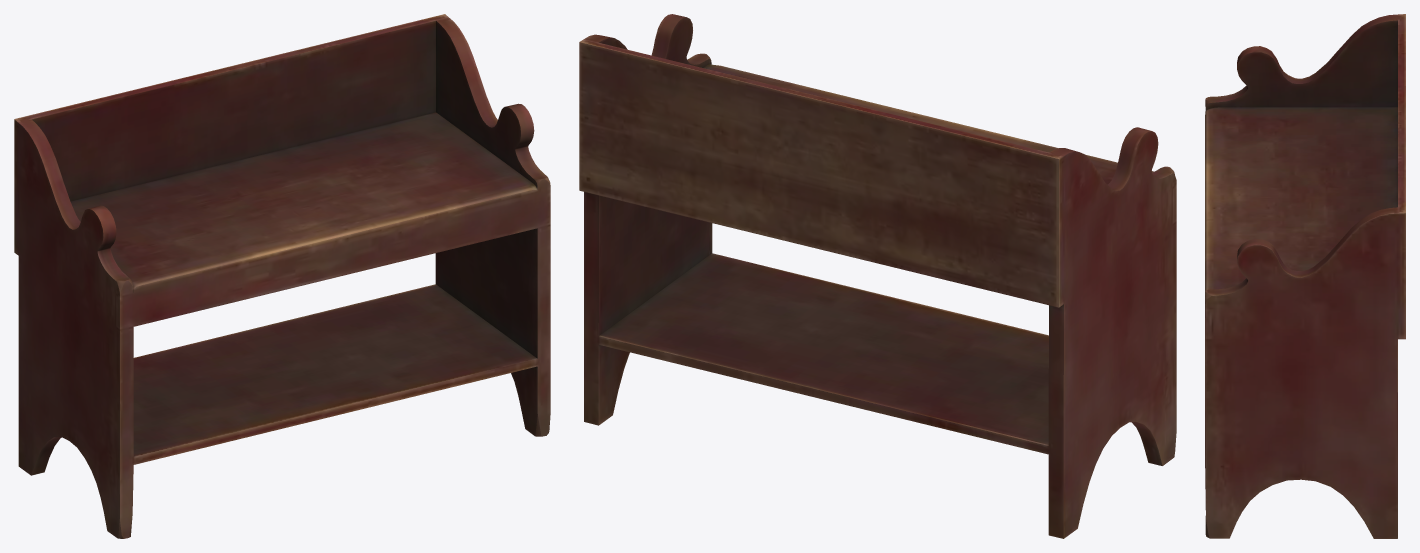
File: painted_wooden_bench.glb
The picture shows the model from 3 angles, left to right: view 1: azimuth 30°, elevation 25°; view 2: azimuth 150°, elevation 25°; view 3: azimuth 270°, elevation 25°; orthographic projection. The views are drawn at different scales.
Visible parts, largest first — view 1: painted_wooden_bench; view 2: painted_wooden_bench; view 3: painted_wooden_bench.
Part boxes in pixels (x1,y1,x2,y2): painted_wooden_bench: (14, 14, 550, 538); painted_wooden_bench: (579, 14, 1176, 538); painted_wooden_bench: (1205, 14, 1405, 538).
Bounding box in the file's own units: 1.16 × 0.8893 × 0.4965.
1 material, 1 textured.
